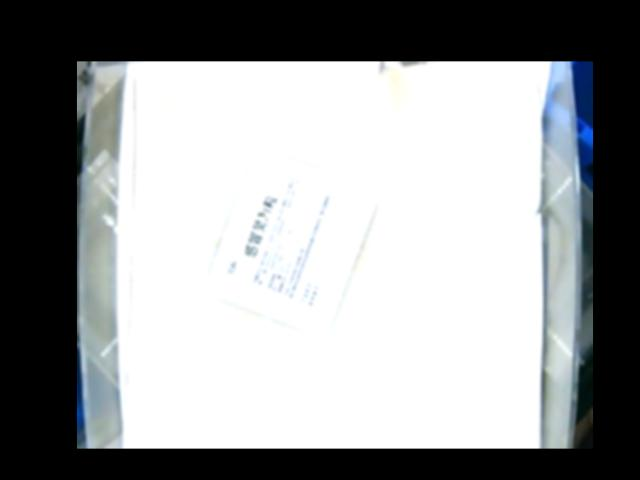Medicine: (204, 146, 380, 338)
